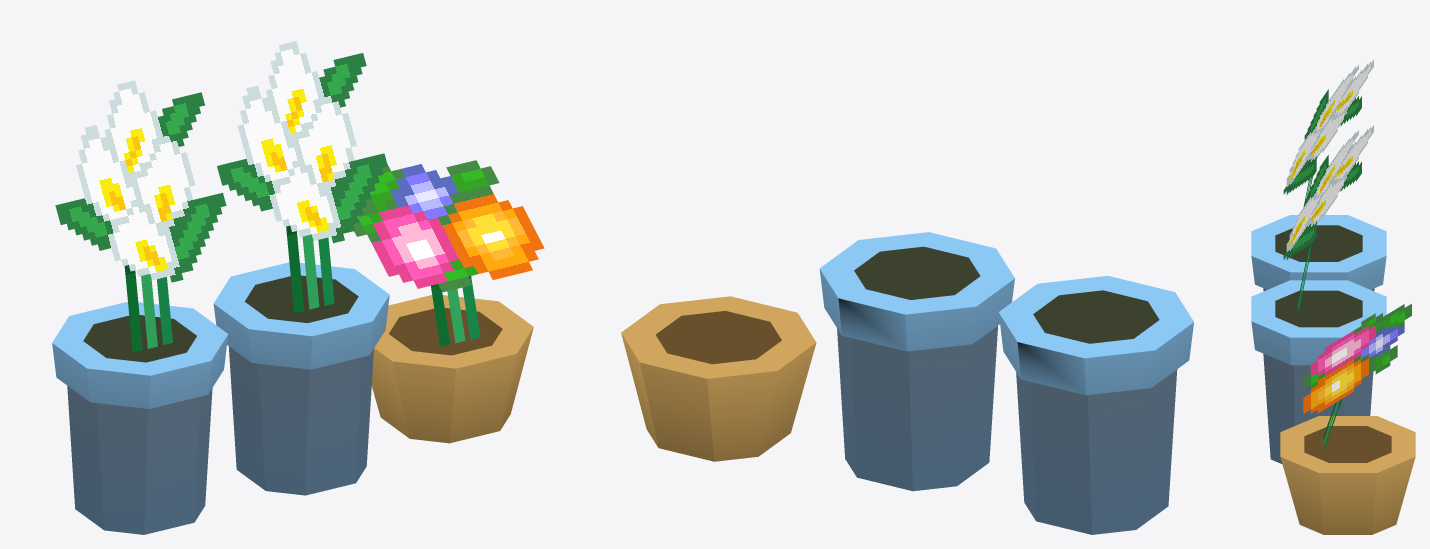
3 views of the same model, side by side, from view 1: azimuth 30°, elevation 25°; view 2: azimuth 150°, elevation 25°; view 3: azimuth 270°, elevation 25° (orthographic). The views are drawn at different scales.
Size of the model in its own units: 3.06 by 2.38 by 1.06.
Materials: 6 (5 with a texture image).
